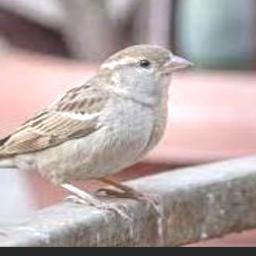Sparrow: (0, 44, 196, 218)
